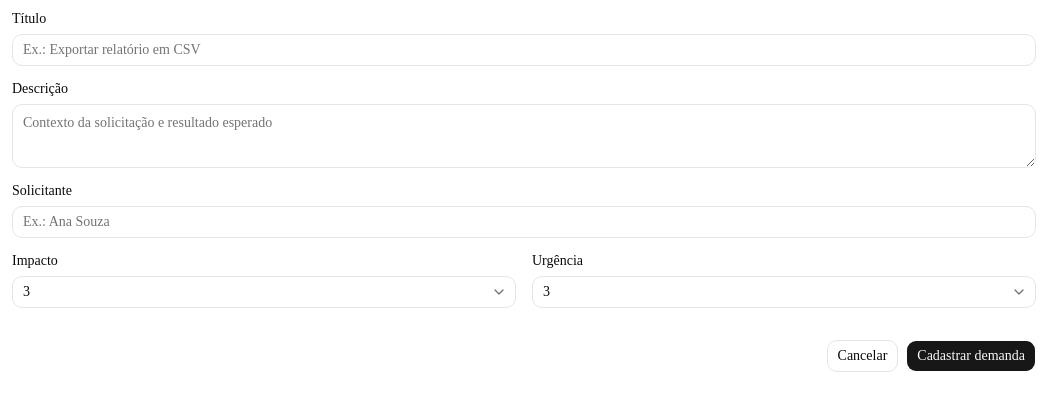
Test case: DemandForm › rejeita um título curto demais
Type "ab" into the field labelled "Título" at (524, 50), box x1=12 y1=34 x2=1036 y2=66
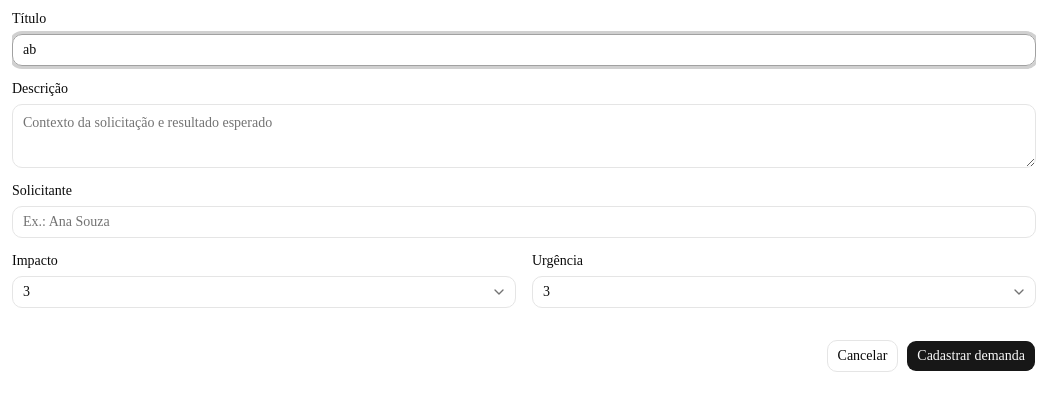
Type "Descrição válida" into the text box labelled "Descrição" at (524, 136), box x1=12 y1=104 x2=1036 y2=168
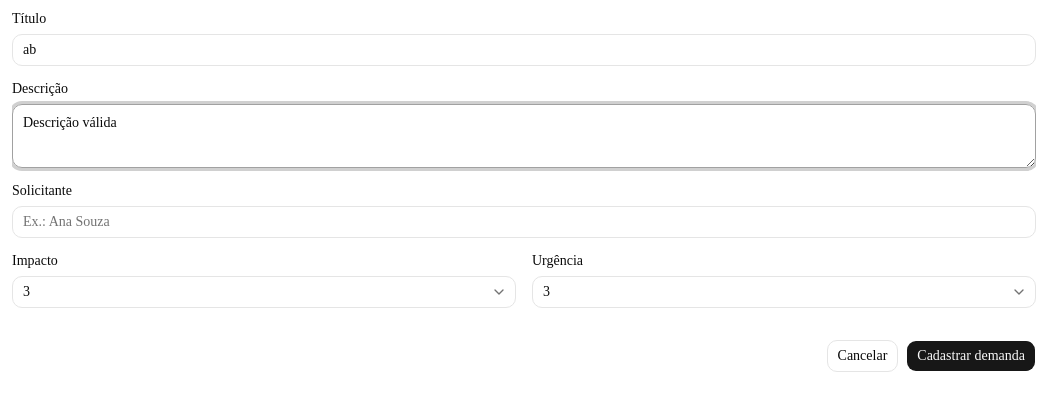
Type "Ana Souza" into the field labelled "Solicitante" at (524, 222), box x1=12 y1=206 x2=1036 y2=238
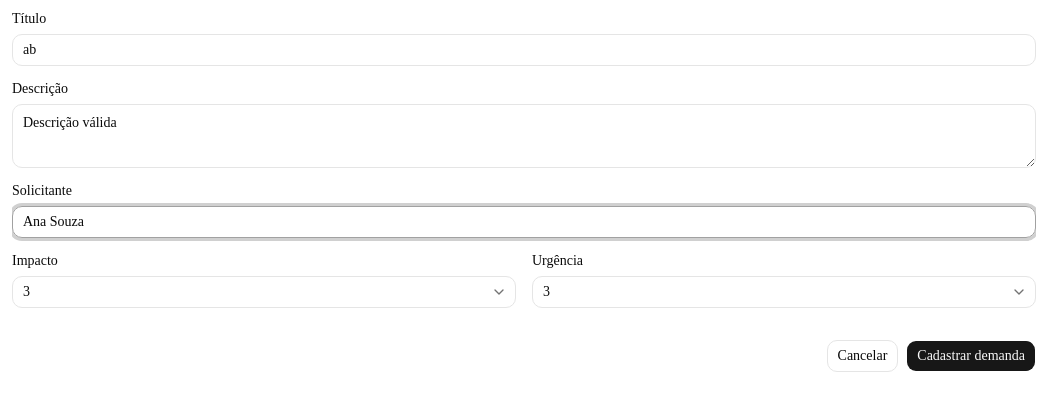
Click the button "Cadastrar demanda" at (971, 356), box x1=906 y1=340 x2=1036 y2=372
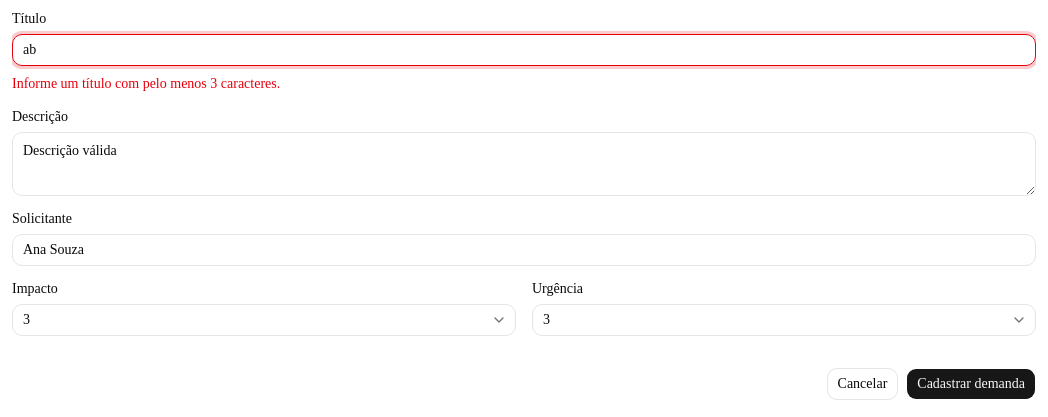
Now the text "Informe um título com pelo menos 3 caracteres." is shown, box x1=12 y1=76 x2=280 y2=91
